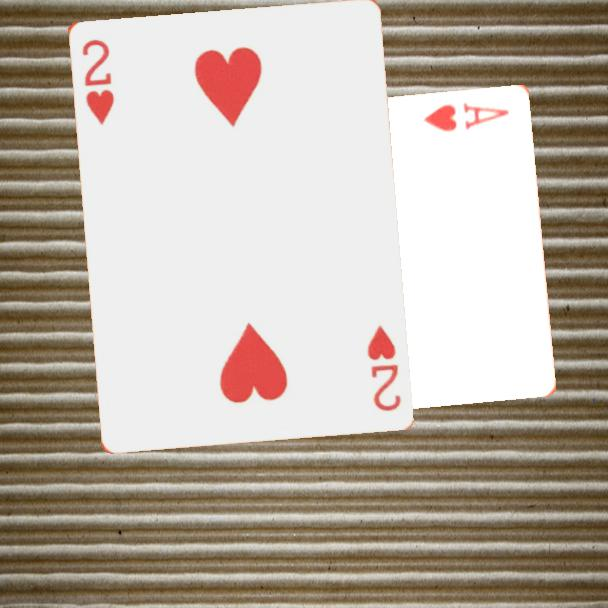h01: (420, 99, 512, 134)
h02: (363, 321, 403, 414), (78, 35, 117, 128)
